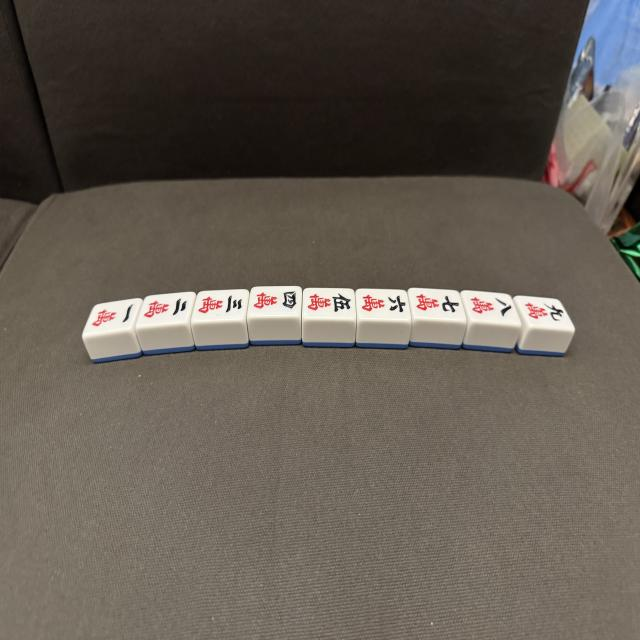1C: (84, 300, 140, 335)
2C: (138, 292, 196, 324)
3C: (192, 292, 249, 322)
4C: (249, 289, 303, 317)
5C: (304, 289, 358, 317)
6C: (357, 292, 412, 320)
7C: (410, 289, 466, 319)
8C: (463, 294, 516, 324)
9C: (516, 298, 573, 328)
